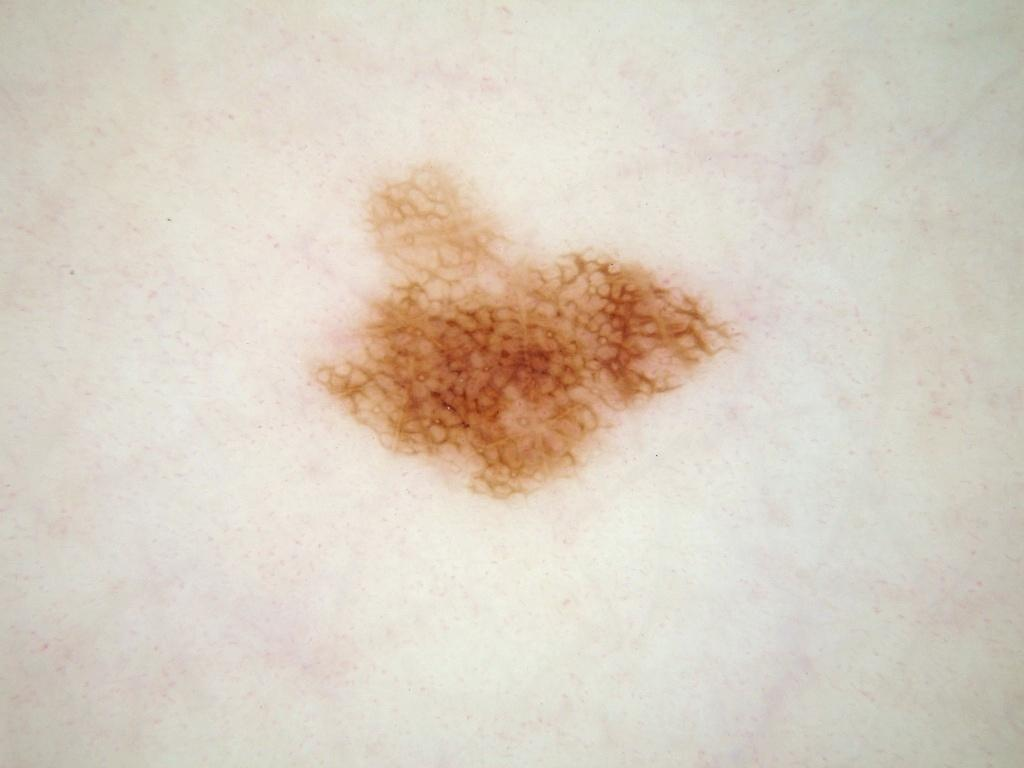Detected Lesion: (311, 167, 743, 506)
